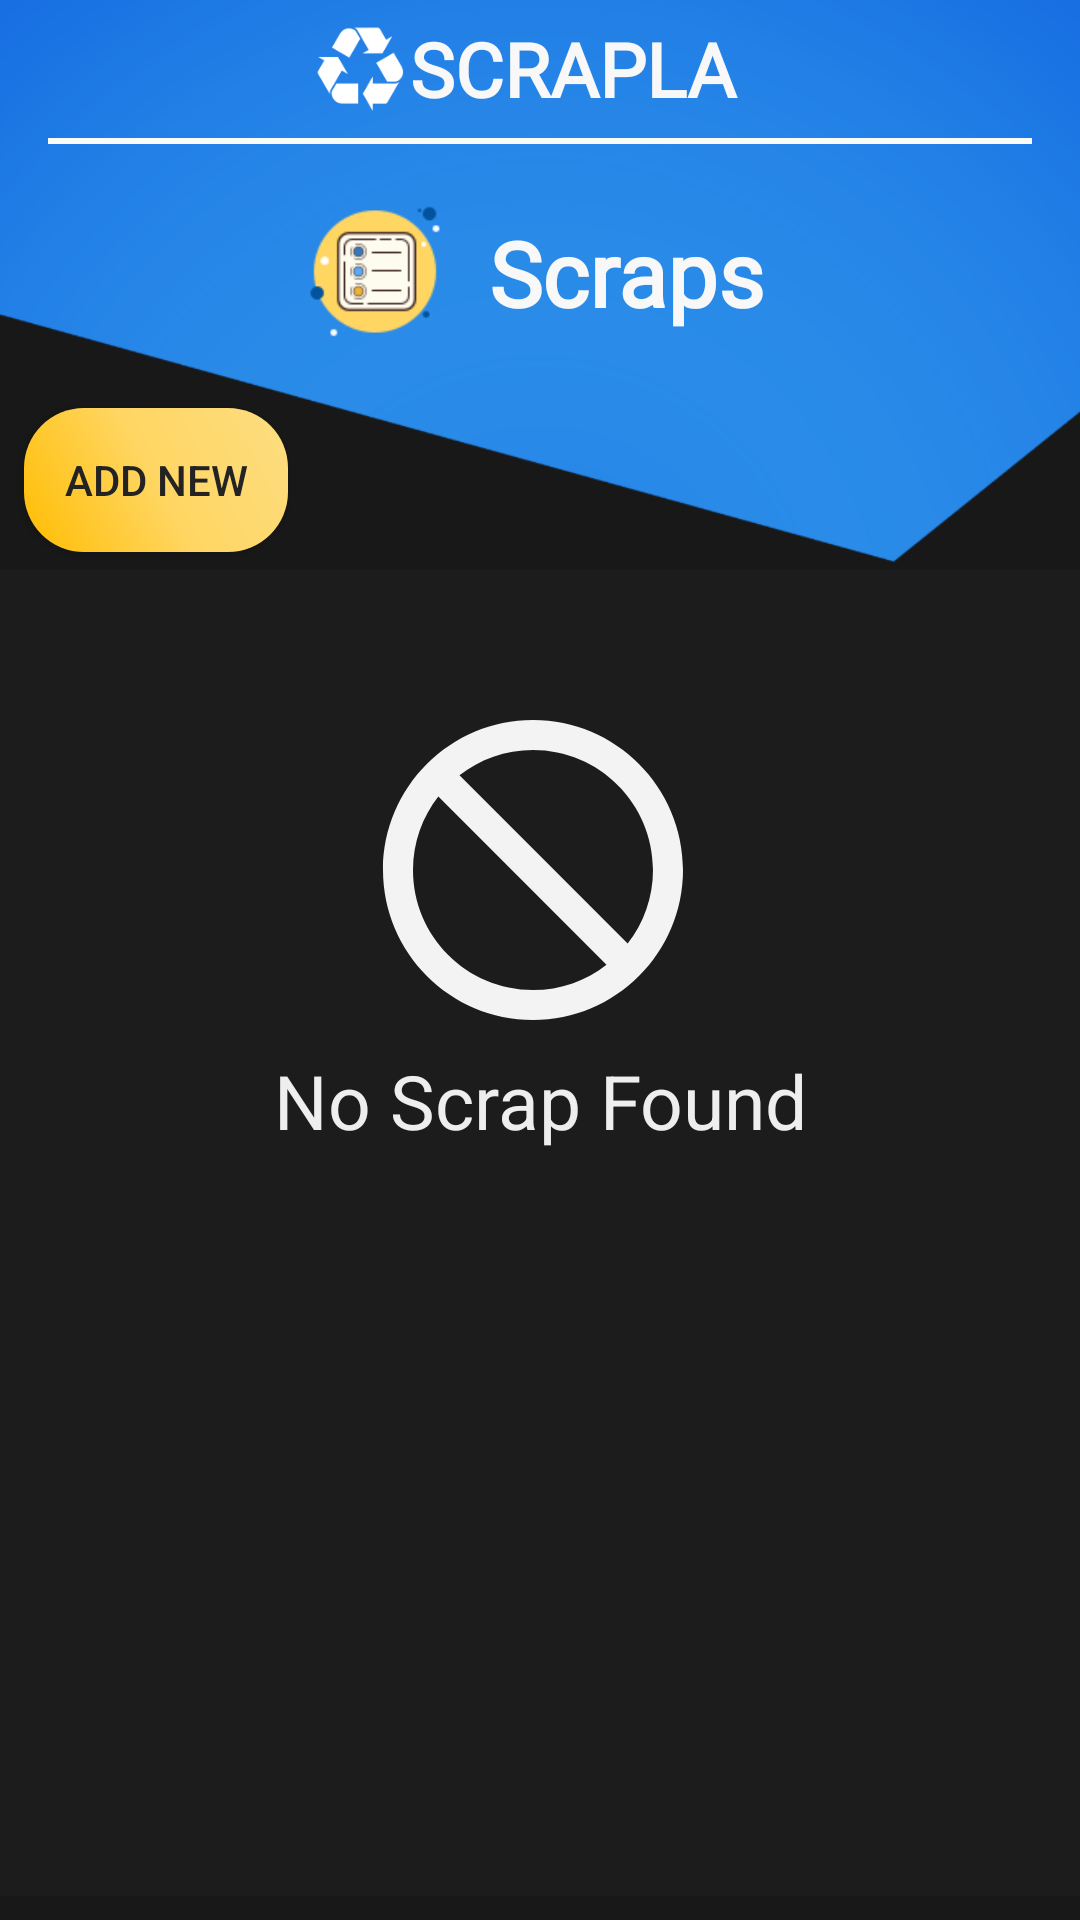

Where to tap for icons on this 1080 × 1920 app screen, as (x,y):
not interested: (533,870)
scraplistnew: (375,271)
